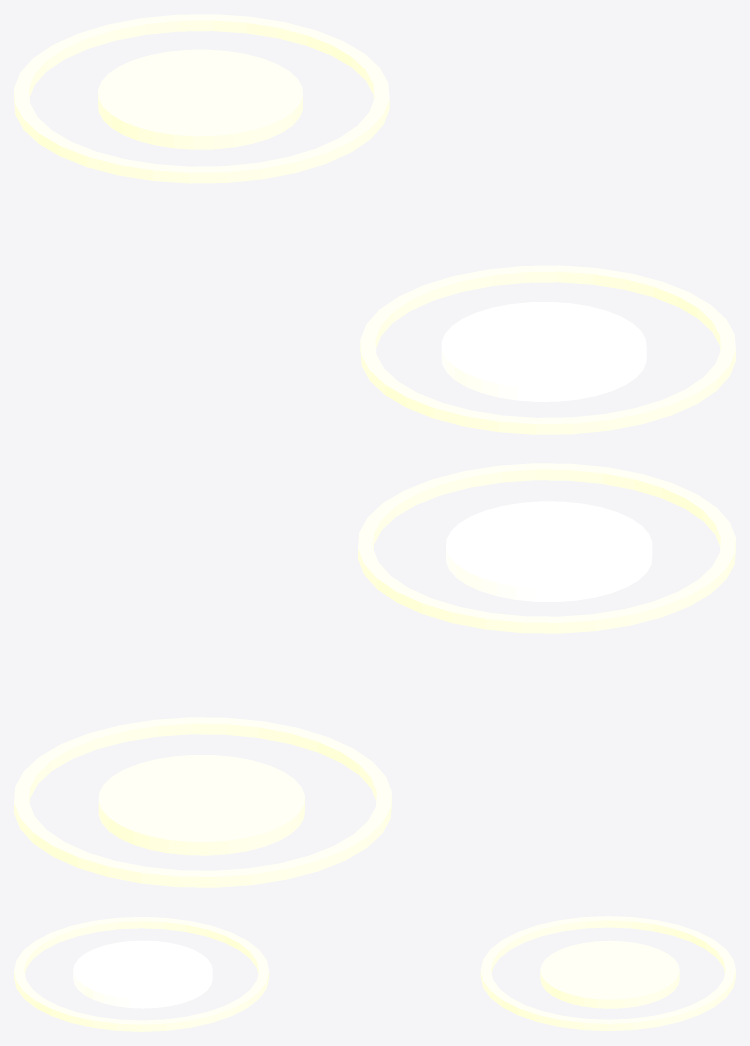
File: lamps.fbx
3 renders of one model, top to bottom at view 1: azimuth 30°, elevation 25°; view 2: azimuth 150°, elevation 25°; view 3: azimuth 270°, elevation 25°, orthographic. The views are drawn at different scales.
Parts seen in each view (by area): view 1: Lamp 1, Lamp 2, Ring 1, Ring 2; view 2: Lamp 1, Lamp 2, Ring 1, Ring 2; view 3: Lamp 2, Lamp 1, Ring 1, Ring 2.
Boxes of the visible parts, <box> form: Lamp 1: <box>98,49,302,149</box>; Lamp 2: <box>441,302,646,401</box>; Ring 1: <box>14,14,389,183</box>; Ring 2: <box>360,265,735,434</box>; Lamp 1: <box>98,754,304,855</box>; Lamp 2: <box>446,501,652,601</box>; Ring 1: <box>14,717,391,887</box>; Ring 2: <box>358,463,735,633</box>; Lamp 2: <box>73,940,212,1008</box>; Lamp 1: <box>540,940,679,1008</box>; Ring 1: <box>480,916,735,1030</box>; Ring 2: <box>14,917,269,1031</box>.
Size of the model in its own units: 565 by 22.69 by 1587.
